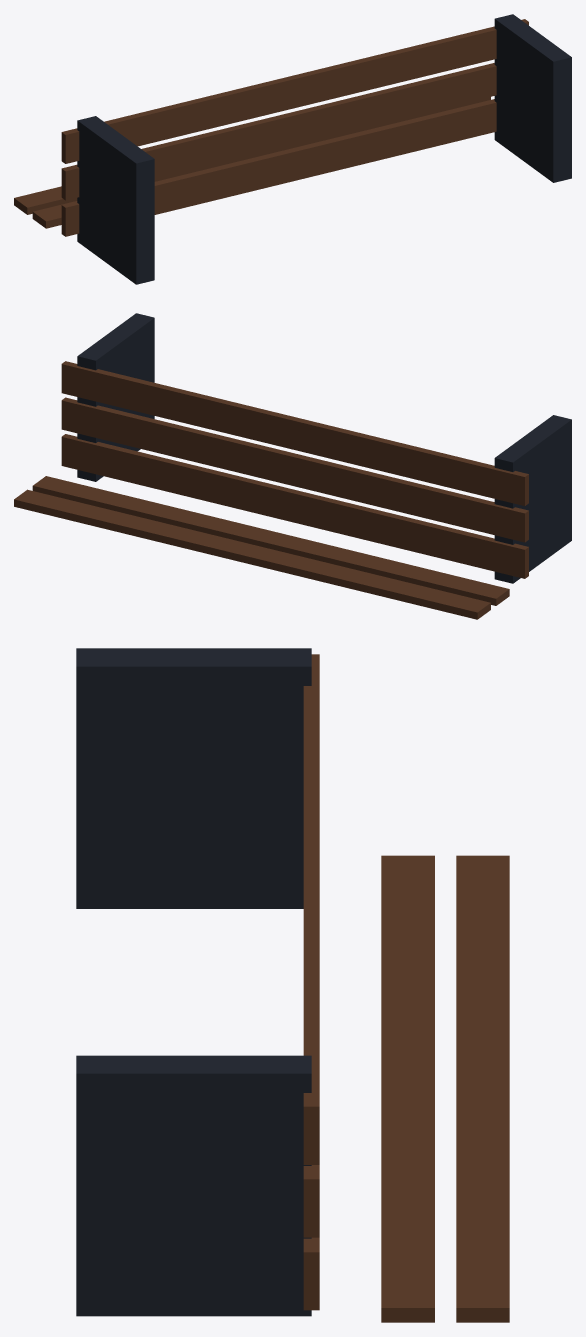
Rendered from station_bench.obj.
3 views of the same model, one above another, from view 1: azimuth 30°, elevation 25°; view 2: azimuth 150°, elevation 25°; view 3: azimuth 270°, elevation 25° (orthographic). The views are drawn at different scales.
Parts seen in each view (by area): view 1: Station_Bench; view 2: Station_Bench; view 3: Station_Bench.
Boxes of the visible parts, x1=… form: Station_Bench: x1=14, y1=14, x2=571, y2=284; Station_Bench: x1=14, y1=313, x2=571, y2=619; Station_Bench: x1=76, y1=648, x2=509, y2=1322.
Size of the model in its own units: 2 by 0.5 by 0.81.
